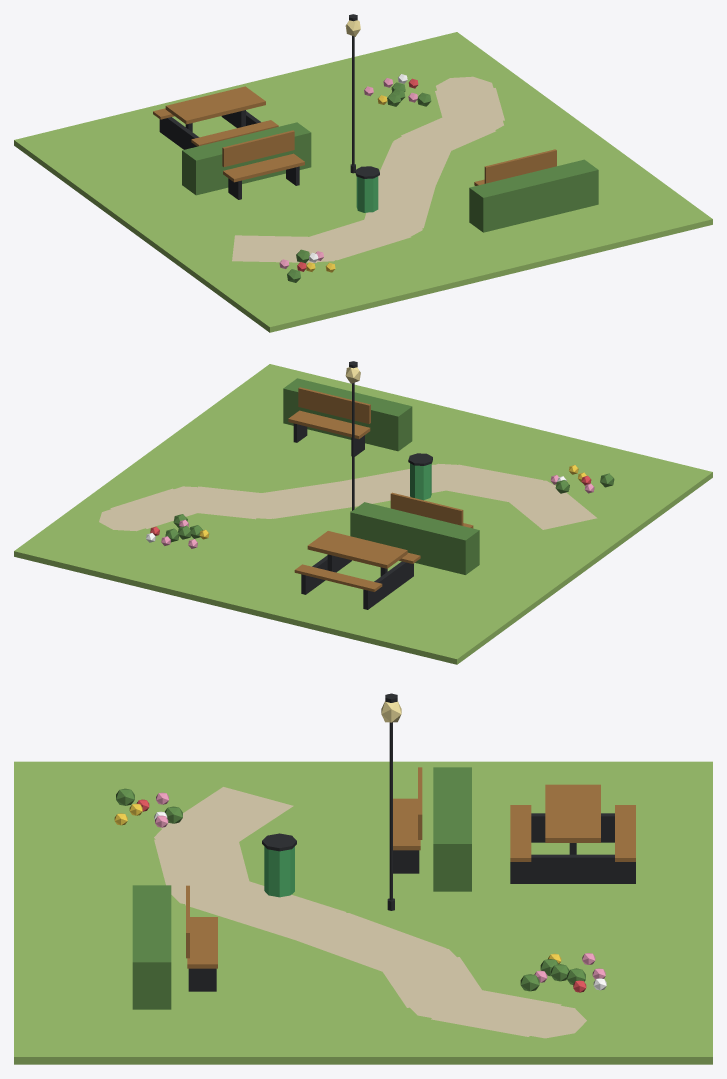
The model's file is Park_cim_gezinti_Hafif.fbx.
The picture shows the model from 3 angles, top to bottom: view 1: azimuth 30°, elevation 25°; view 2: azimuth 150°, elevation 25°; view 3: azimuth 270°, elevation 25°; orthographic projection. The views are drawn at different scales.
Visible parts, largest first — view 1: Park_cim_gezinti_Hafif; view 2: Park_cim_gezinti_Hafif; view 3: Park_cim_gezinti_Hafif.
Boxes of the visible parts, x1=… form: Park_cim_gezinti_Hafif: x1=14, y1=14, x2=712, y2=332; Park_cim_gezinti_Hafif: x1=14, y1=361, x2=712, y2=664; Park_cim_gezinti_Hafif: x1=14, y1=693, x2=712, y2=1064.
Size of the model in its own units: 10 by 3.48 by 10.
